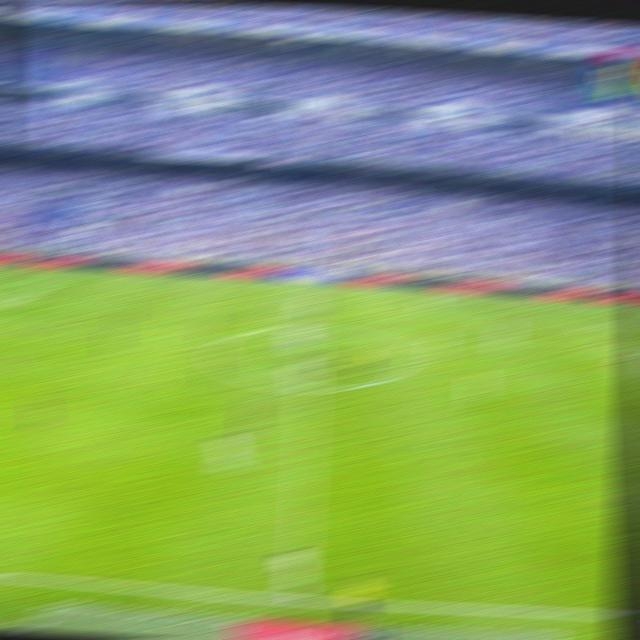halfcircle_bottom: (296, 376, 320, 396)
halfcircle_top: (301, 322, 322, 334)
midline_top_intersection: (304, 279, 324, 289)
